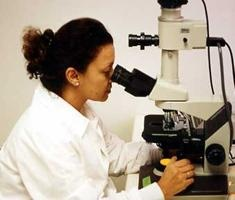person without safety: (1, 18, 119, 171)
